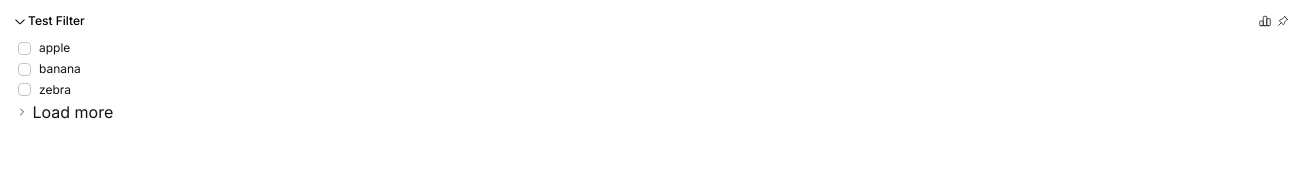
Test: FilterGroup › should show <1% for a value missing from a capped result
The width and height of the screenshot is (1304, 172).
Click the checkbox with test id "toggle-distribution-button-Test Filter".
click(1265, 21)  # box [1256,12,1274,30]
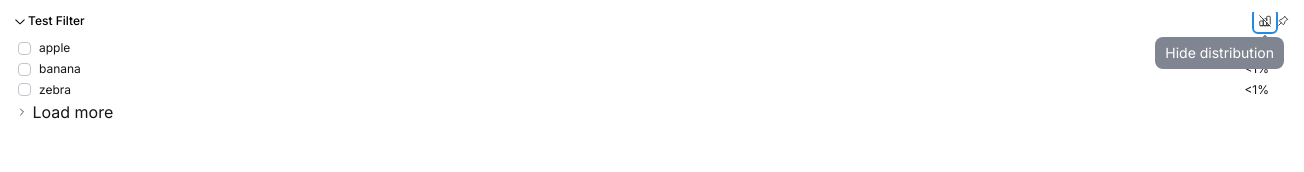
Result: the text with test id "filter-distribution-Test Filter-banana" reads "<1%" at [1244,61,1269,76]
